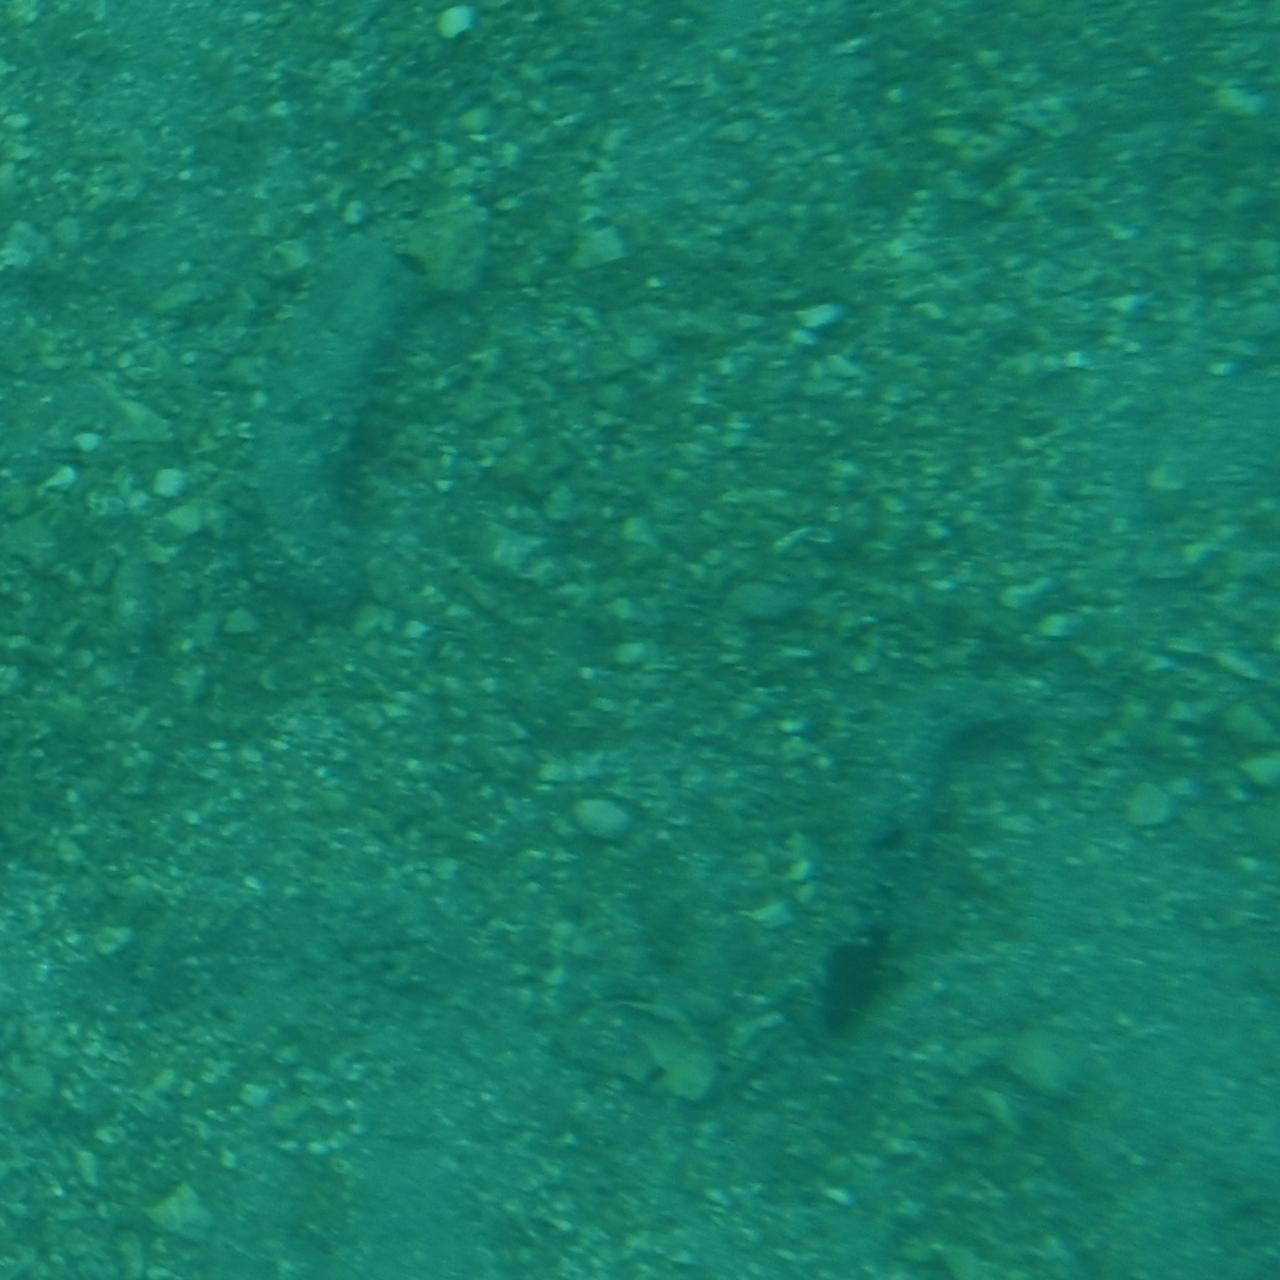Holothuria tubulosa: (769, 649, 1076, 1041), (272, 213, 445, 659)
